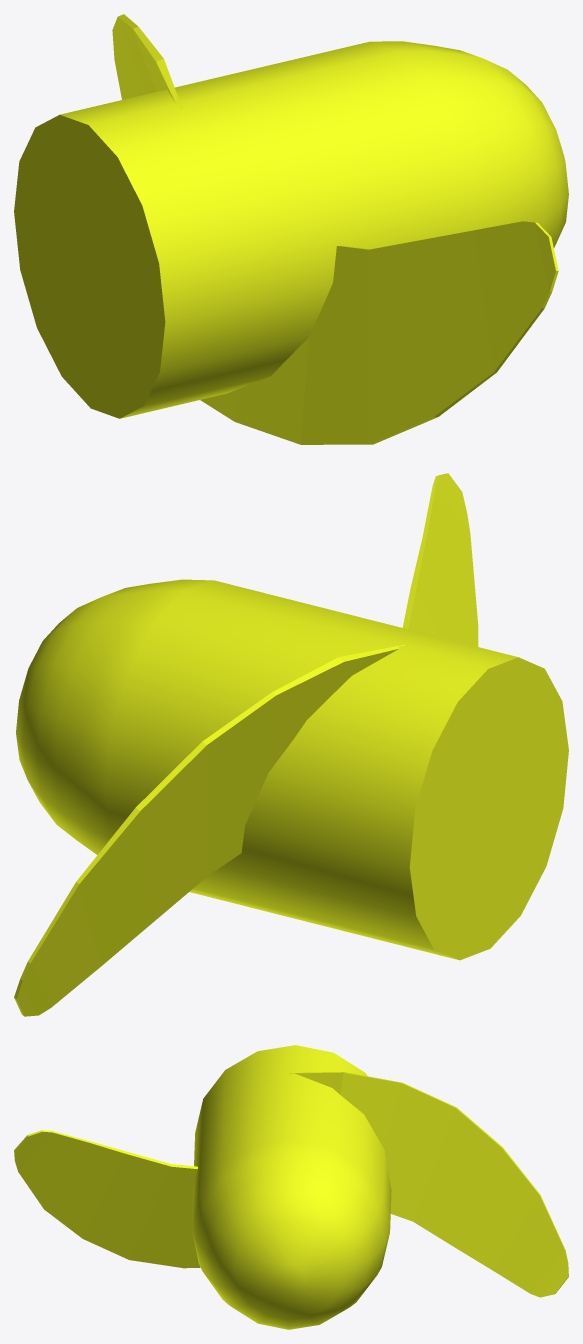
The model's file is m200_weedless_prop_ccw.visual.glb.
3 views of the same model, one above another, from view 1: azimuth 30°, elevation 25°; view 2: azimuth 150°, elevation 25°; view 3: azimuth 270°, elevation 25° (orthographic). The views are drawn at different scales.
Visible parts, largest first — view 1: m200_weedless_prop_ccw_visual.001; view 2: m200_weedless_prop_ccw_visual.001; view 3: m200_weedless_prop_ccw_visual.001.
Part boxes in pixels (x1,y1,x2,y2): m200_weedless_prop_ccw_visual.001: [14, 14, 568, 444]; m200_weedless_prop_ccw_visual.001: [14, 473, 568, 1016]; m200_weedless_prop_ccw_visual.001: [14, 1045, 568, 1329].
Bounding box in the file's own units: 0.0677 × 0.0427 × 0.1103.
Materials: 1 (1 with a texture image).
